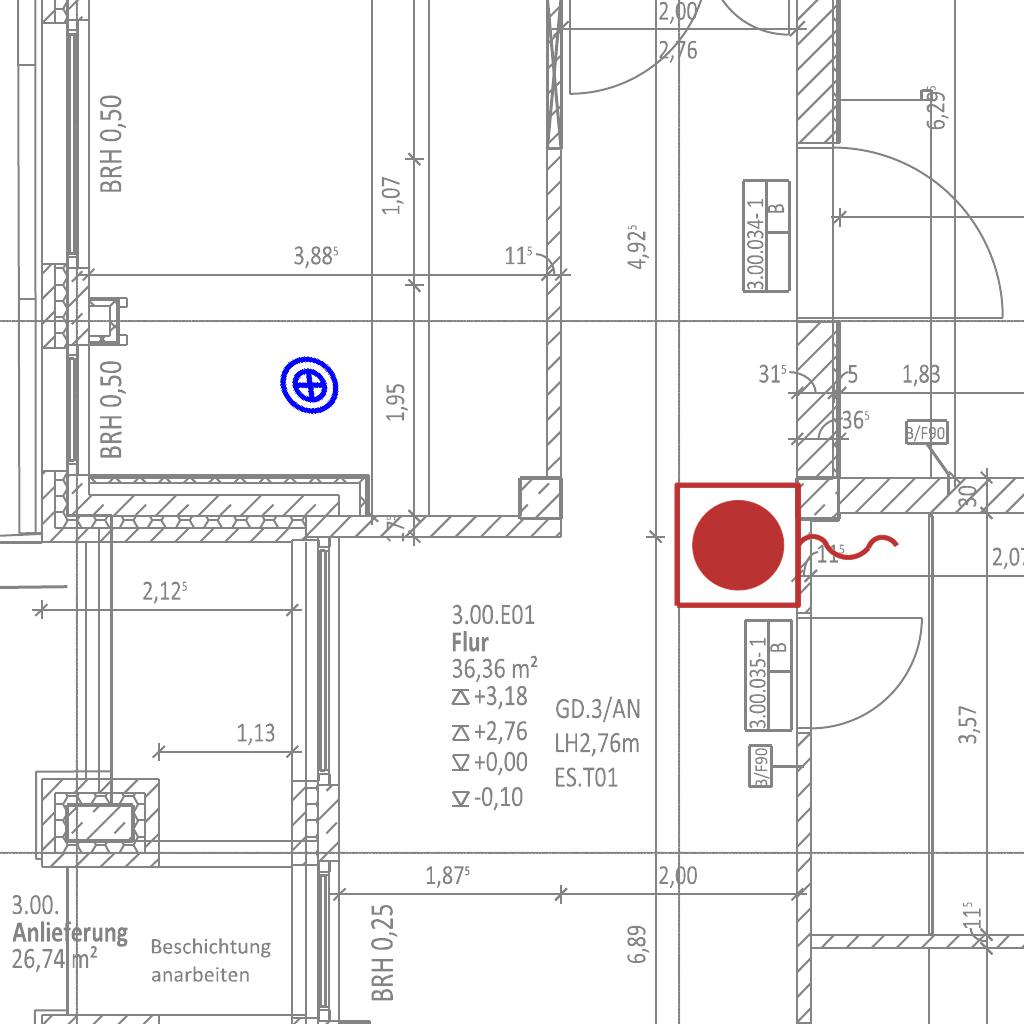Taster_beleuchtet: (263, 338, 357, 432)
Zugtaster: (666, 475, 910, 619)
